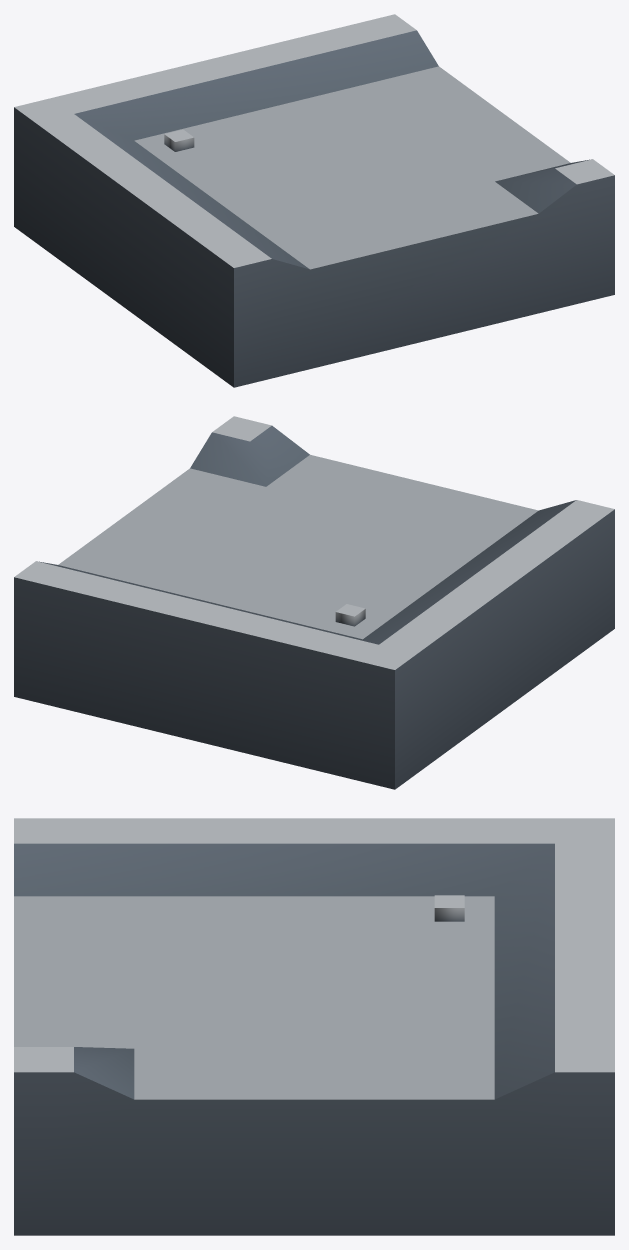
File: floor-panel-corner.glb
3 renders of one model, top to bottom at view 1: azimuth 30°, elevation 25°; view 2: azimuth 150°, elevation 25°; view 3: azimuth 270°, elevation 25°, orthographic. The views are drawn at different scales.
Parts seen in each view (by area): view 1: floor-panel-corner; view 2: floor-panel-corner; view 3: floor-panel-corner.
Part boxes in pixels (x1,y1,x2,y2): floor-panel-corner: (14,14,614,387); floor-panel-corner: (14,416,614,789); floor-panel-corner: (14,818,614,1235).
Size of the model in its own units: 1 by 0.3 by 1.
